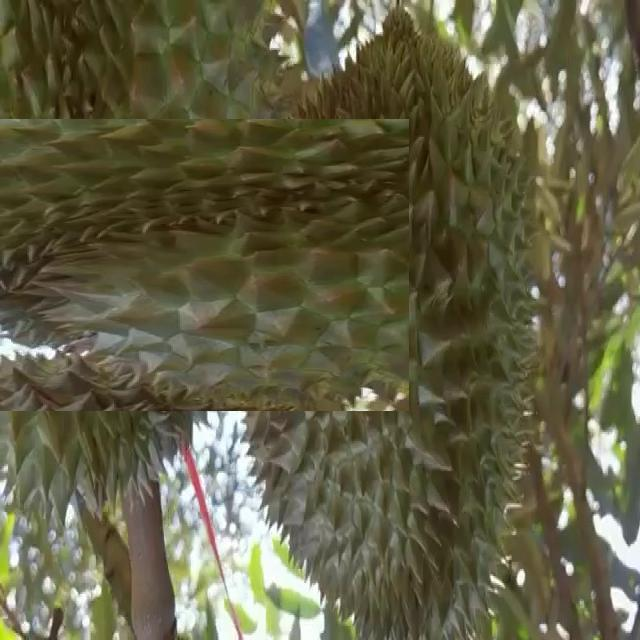durian: (230, 24, 546, 640), (0, 61, 352, 470)
